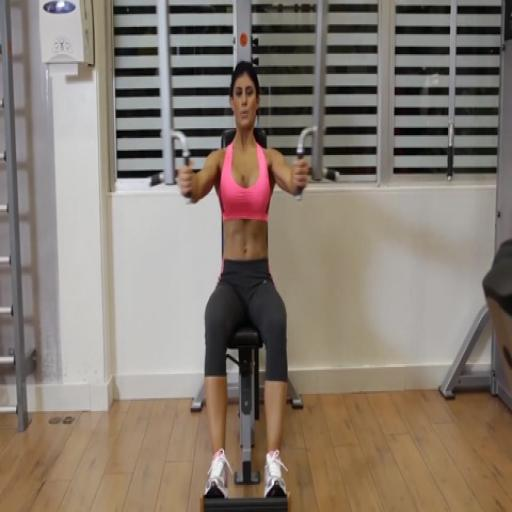exercise: (175, 60, 312, 503)
